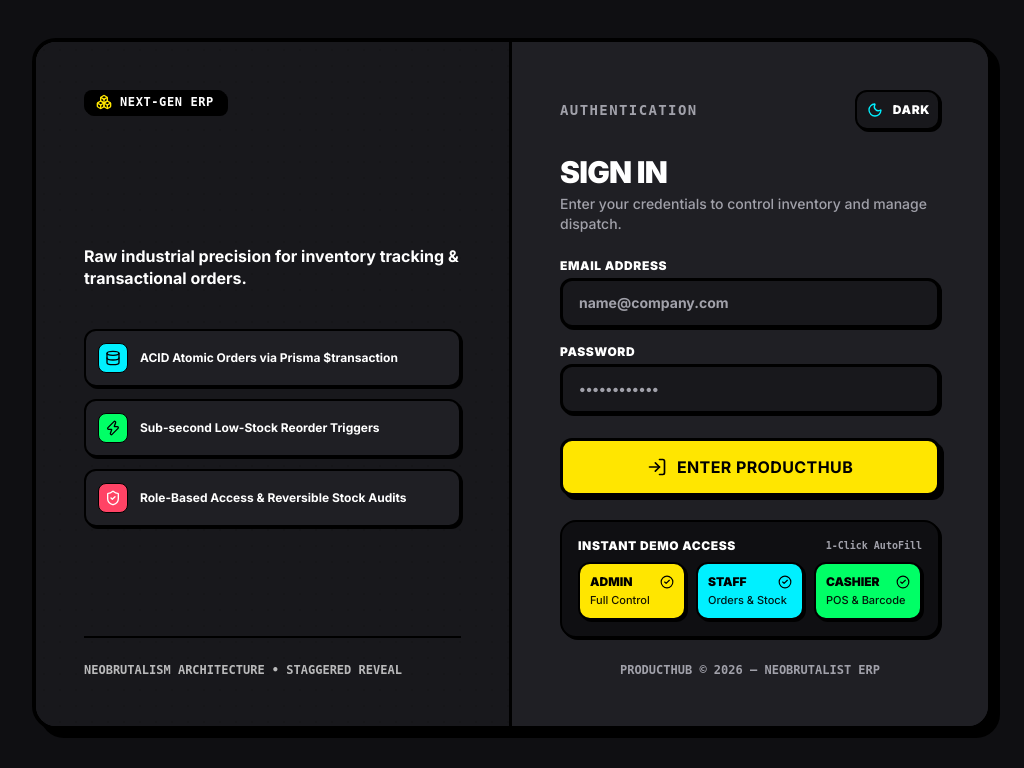
Test: LoginPage Component (ProductHub) › fills inputs when Admin demo button is clicked
What coordinates should you click on to do the following:
click the button "Admin Full Control"
I would click on:
 (632, 591)
Its box is [578, 562, 686, 620].
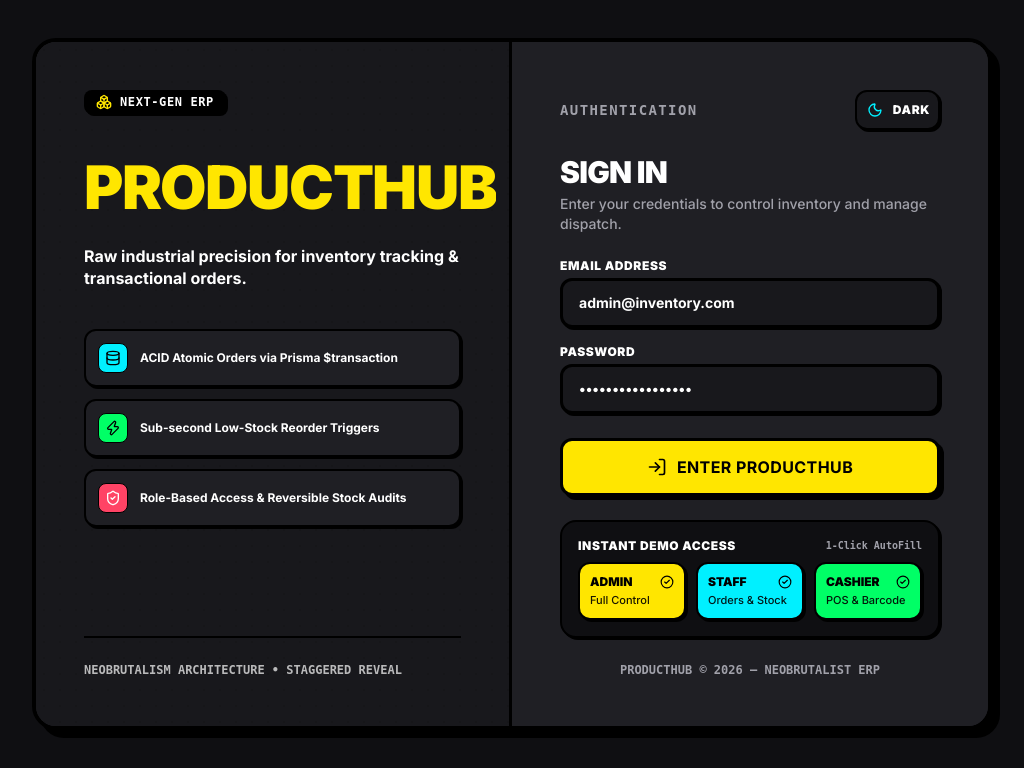
Result: the field with placeholder "name@company.com" holds "admin@inventory.com" at [560, 278, 940, 328]
